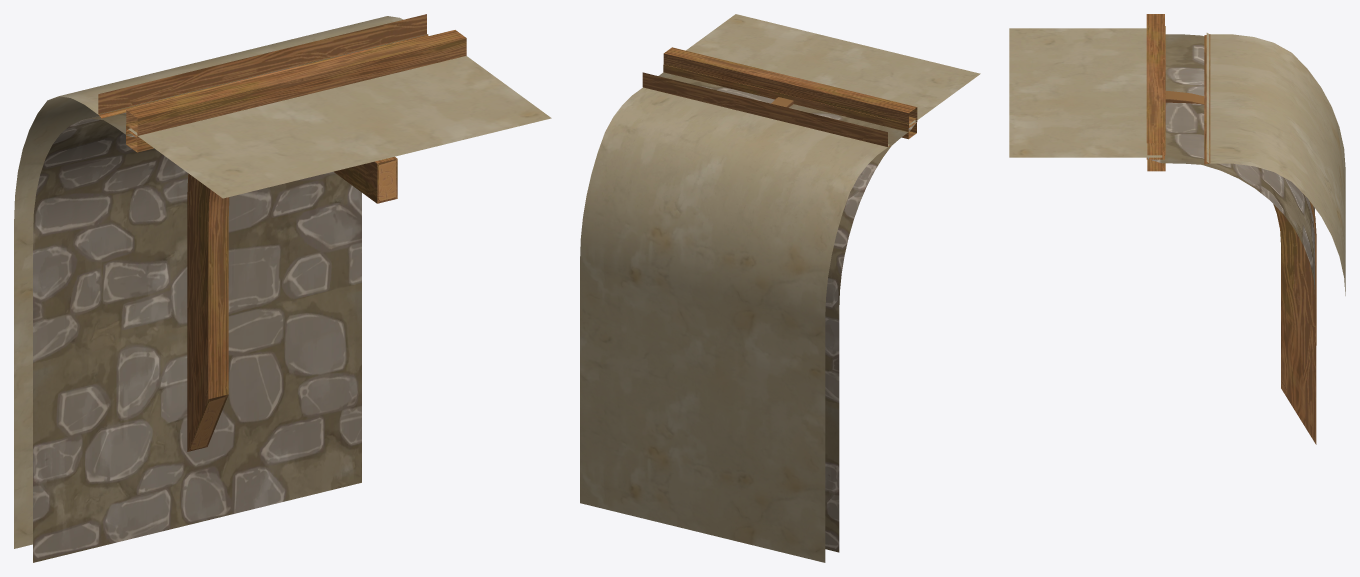
The model's file is Overhang_UnevenBrick_Long.gltf.
3 views of the same model, side by side, from view 1: azimuth 30°, elevation 25°; view 2: azimuth 150°, elevation 25°; view 3: azimuth 270°, elevation 25° (orthographic). The views are drawn at different scales.
Parts seen in each view (by area): view 1: Overhang_UnevenBrick_Long; view 2: Overhang_UnevenBrick_Long; view 3: Overhang_UnevenBrick_Long.
Part boxes in pixels (x1,y1,x2,y2): Overhang_UnevenBrick_Long: [14, 14, 551, 562]; Overhang_UnevenBrick_Long: [580, 14, 980, 562]; Overhang_UnevenBrick_Long: [1009, 14, 1345, 444].
Size of the model in its own units: 2 by 3.03 by 2.2.
3 materials, 3 textured.
